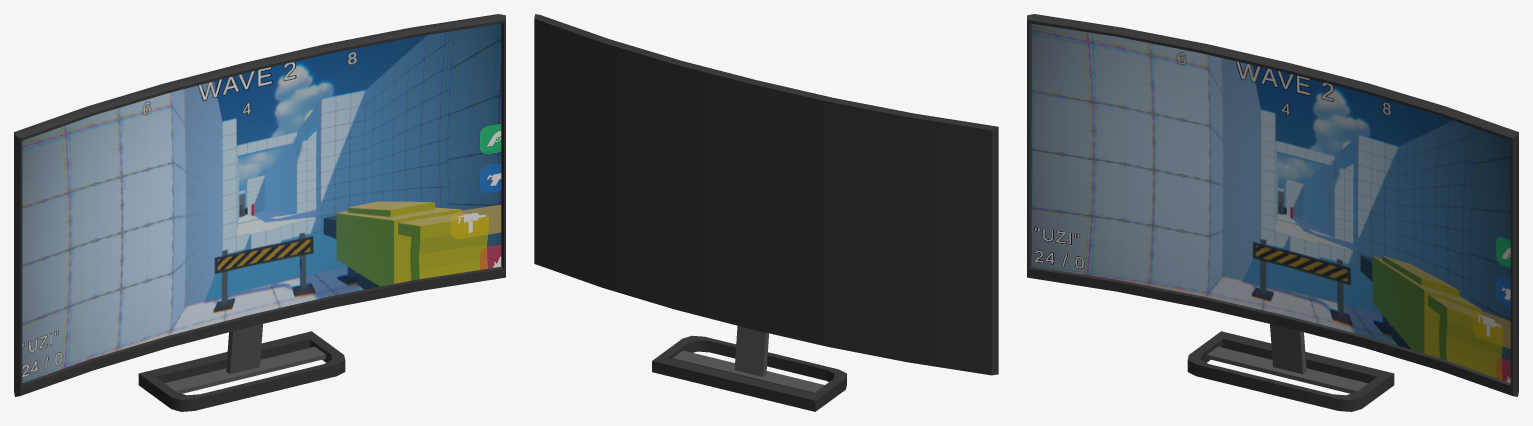
3 renders of one model, left to right at view 1: azimuth 30°, elevation 25°; view 2: azimuth 150°, elevation 25°; view 3: azimuth 330°, elevation 25°, orthographic. The views are drawn at different scales.
Parts seen in each view (by area): view 1: Monitor 4 Curved; view 2: Monitor 4 Curved; view 3: Monitor 4 Curved.
Part boxes in pixels (<box>): Monitor 4 Curved: <box>14,14,505,411</box>; Monitor 4 Curved: <box>534,14,998,411</box>; Monitor 4 Curved: <box>1027,14,1518,411</box>.
Size of the model in its own units: 0.9796 by 0.6002 by 0.1393.
Materials: 2 (2 with a texture image).
